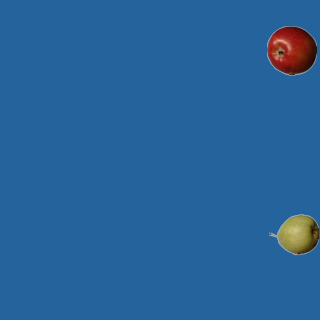Apple Braeburn: (266, 25, 316, 75)
Pear: (268, 209, 318, 259)
